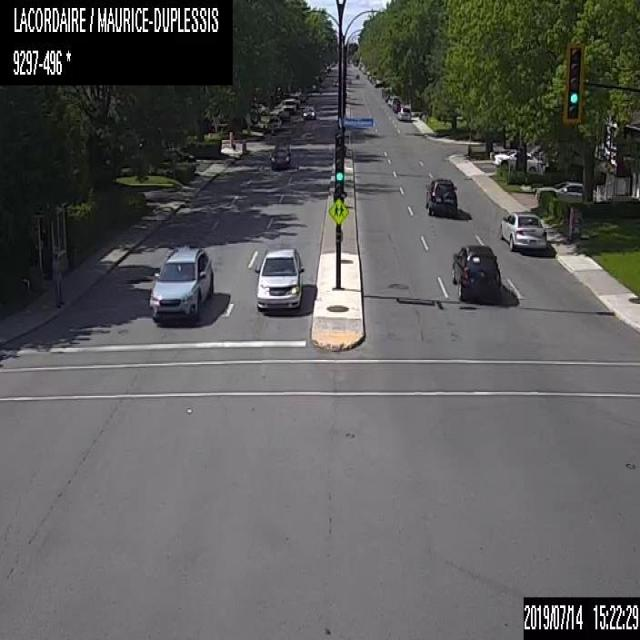construction: (241, 140, 246, 157), (228, 130, 233, 146)
pedestrian: (52, 253, 63, 310)
vehicle: (147, 246, 213, 326), (255, 247, 303, 312), (450, 243, 501, 300), (498, 209, 547, 251), (534, 179, 598, 203), (492, 148, 544, 172), (424, 177, 456, 215), (269, 142, 291, 170), (162, 148, 196, 163), (266, 114, 282, 132), (251, 101, 269, 116), (282, 98, 298, 112), (302, 104, 316, 118), (397, 105, 410, 120), (276, 110, 288, 122), (391, 97, 401, 111), (354, 71, 358, 80), (332, 78, 337, 85)
